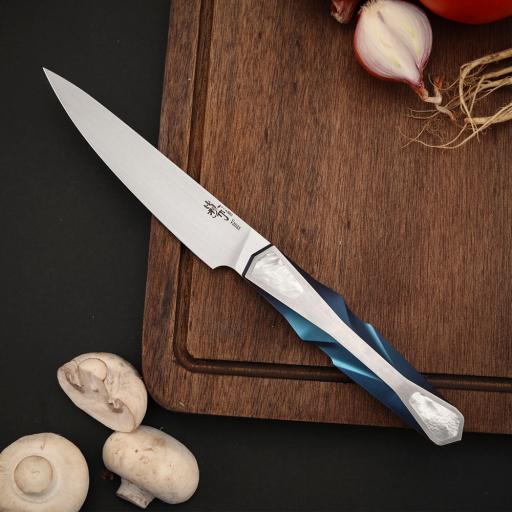knife: (47, 61, 471, 467)
